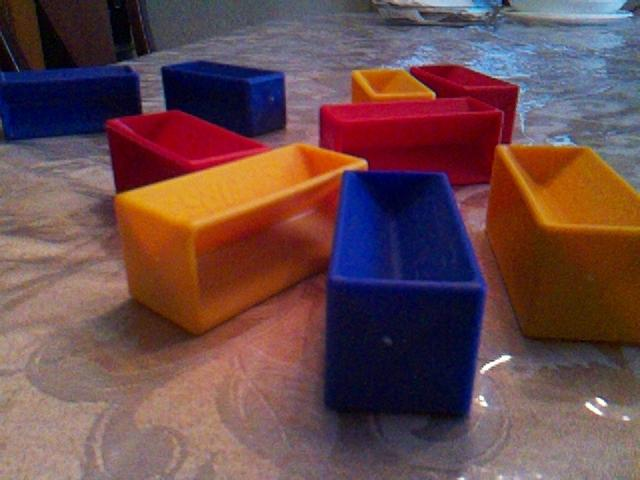blue: (322, 167, 488, 419), (2, 62, 143, 141), (160, 57, 288, 138)
red: (318, 95, 505, 186), (104, 108, 272, 193), (410, 61, 521, 144)
yellow: (112, 141, 369, 335), (485, 141, 639, 346), (350, 66, 437, 104)
